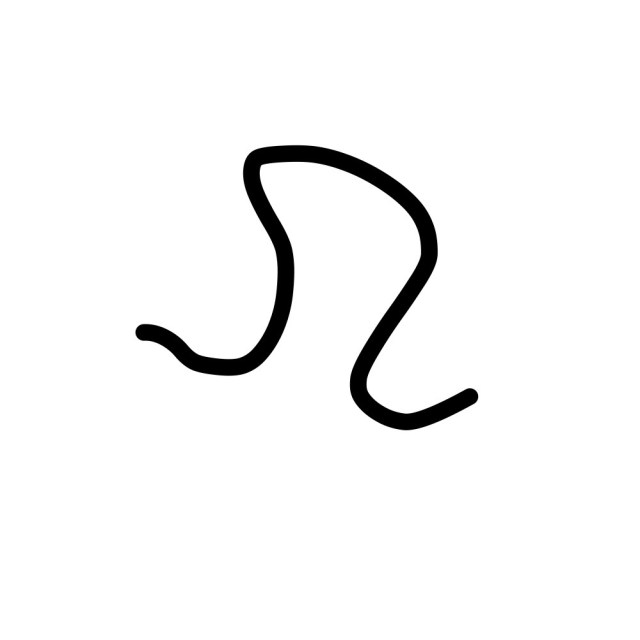ohms: (106, 63, 603, 480)
